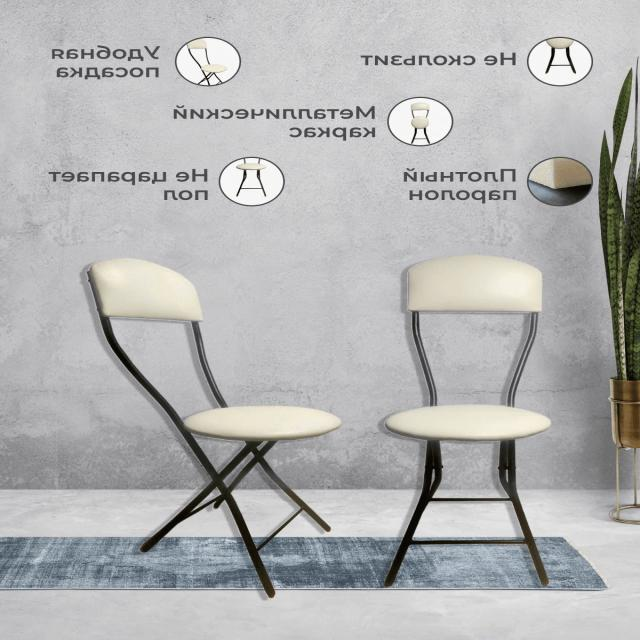chair: (82, 252, 348, 601), (374, 250, 562, 590), (71, 244, 342, 455), (374, 235, 566, 475)
